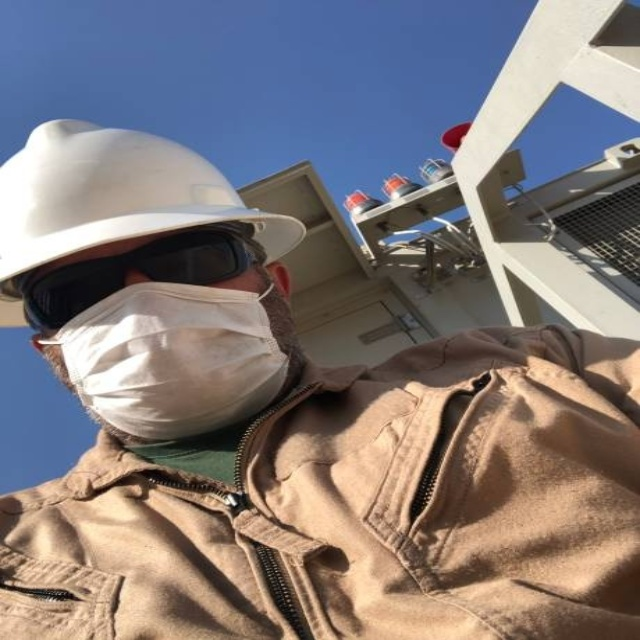Gafas: (18, 227, 263, 329)
Mascara: (44, 277, 296, 440)
